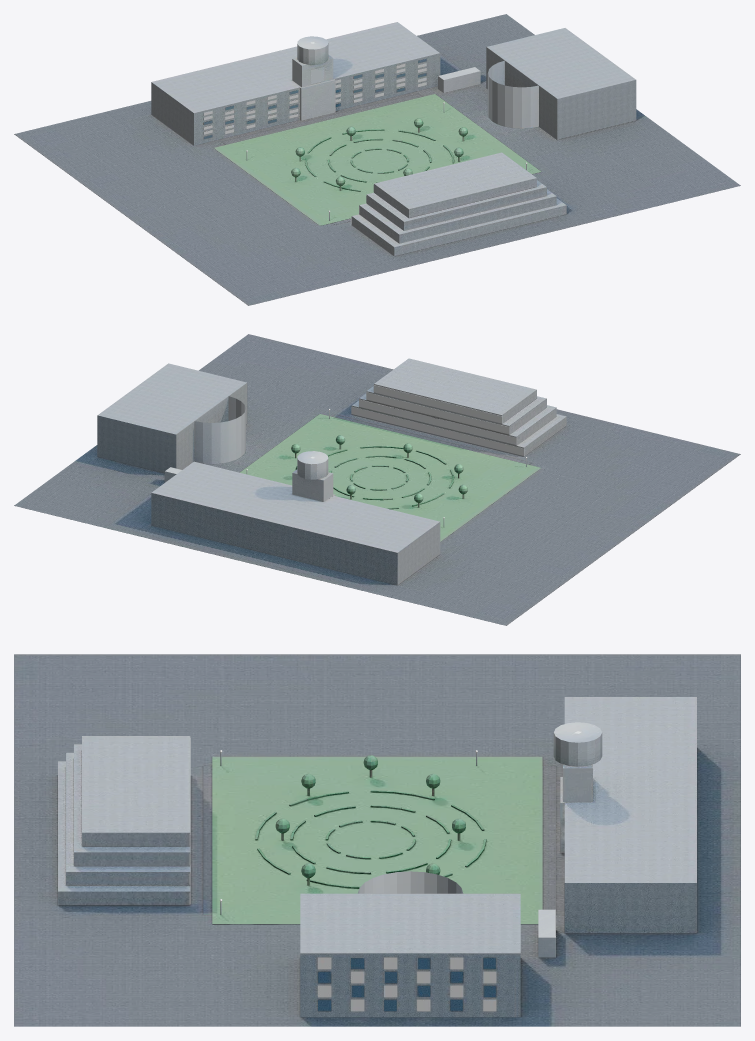
File: starabyss_univ.glb
3 views of the same model, one above another, from view 1: azimuth 30°, elevation 25°; view 2: azimuth 150°, elevation 25°; view 3: azimuth 270°, elevation 25° (orthographic). The views are drawn at different scales.
Visible parts, largest first — view 1: site_ground, props_main, props_plaza, props_library, props_medical, props_link; view 2: site_ground, props_main, props_plaza, props_medical, props_library; view 3: site_ground, props_plaza, props_main, props_medical, props_library, props_link.
Boxes of the visible parts, x1,y1,x2,y2 form: site_ground: (14, 14, 740, 305); props_main: (151, 22, 440, 145); props_plaza: (214, 93, 541, 225); props_library: (351, 152, 566, 256); props_medical: (486, 28, 636, 139); props_link: (438, 67, 480, 92); site_ground: (14, 334, 740, 625); props_main: (151, 451, 440, 585); props_plaza: (240, 414, 540, 541); props_medical: (97, 363, 247, 472); props_library: (351, 358, 566, 456); site_ground: (14, 654, 740, 1026); props_plaza: (203, 755, 555, 924); props_main: (553, 697, 696, 933); props_medical: (300, 871, 520, 1017); props_library: (58, 736, 190, 905); props_link: (538, 909, 555, 957).
Size of the model in its own units: 200 by 27.3 by 165.
7 materials, 7 textured.
